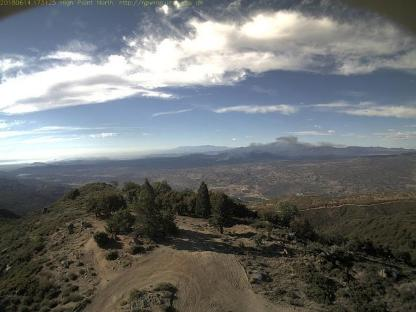smoke: (214, 133, 344, 163)
